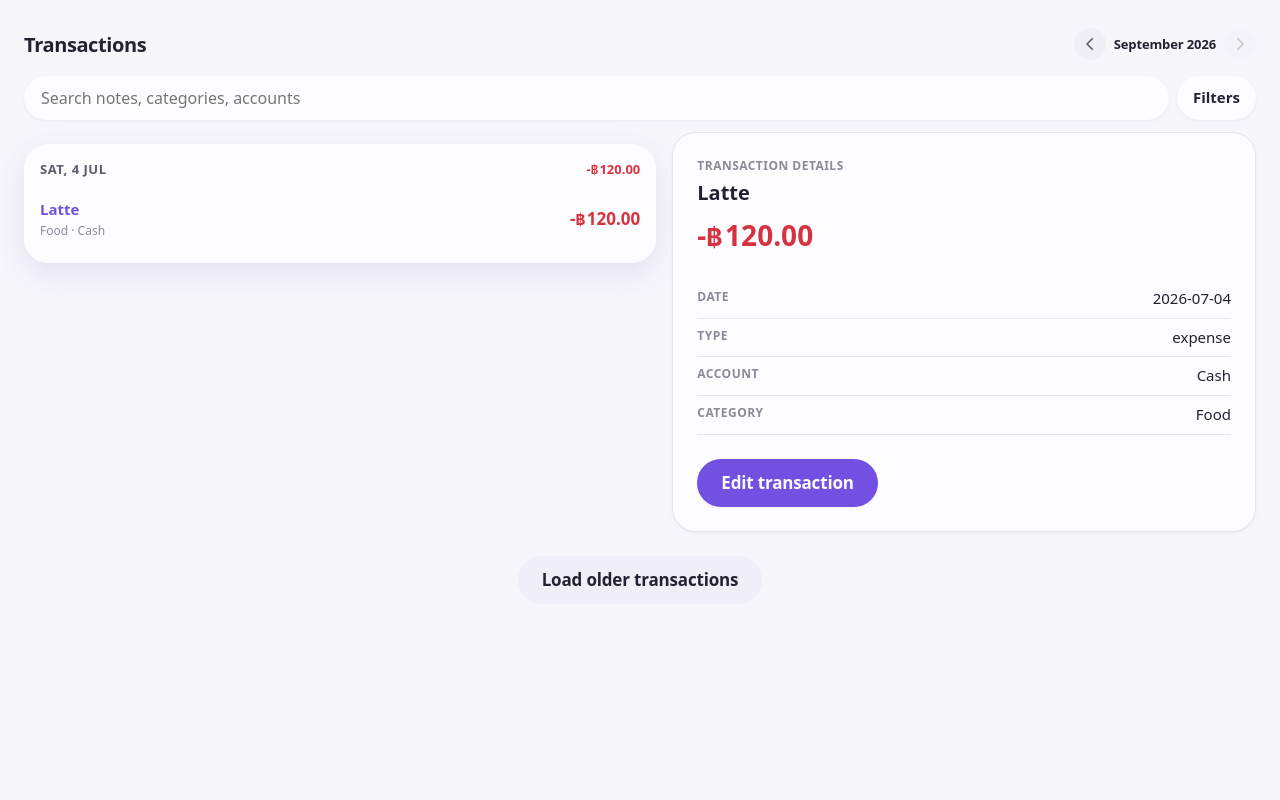
it: TransactionsScreen › loads older transactions until the cursor is exhausted
Expected: the text "Latte" is shown, [40,199,79,219]
Click the button "Load older transactions" at (640, 580), box [518,556,762,604]
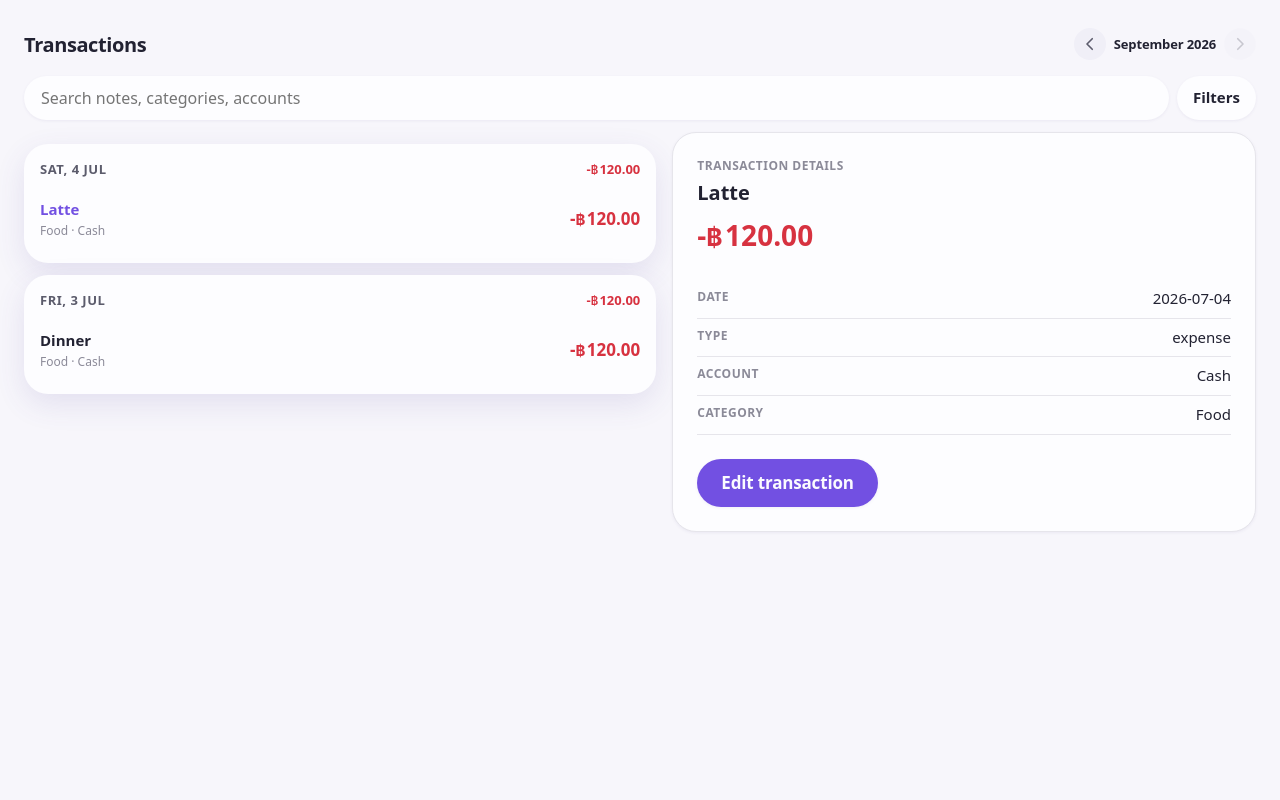
Expected: the text "Dinner" is shown, [40,330,91,350]
Expected: the button "Load older transactions" is gone
